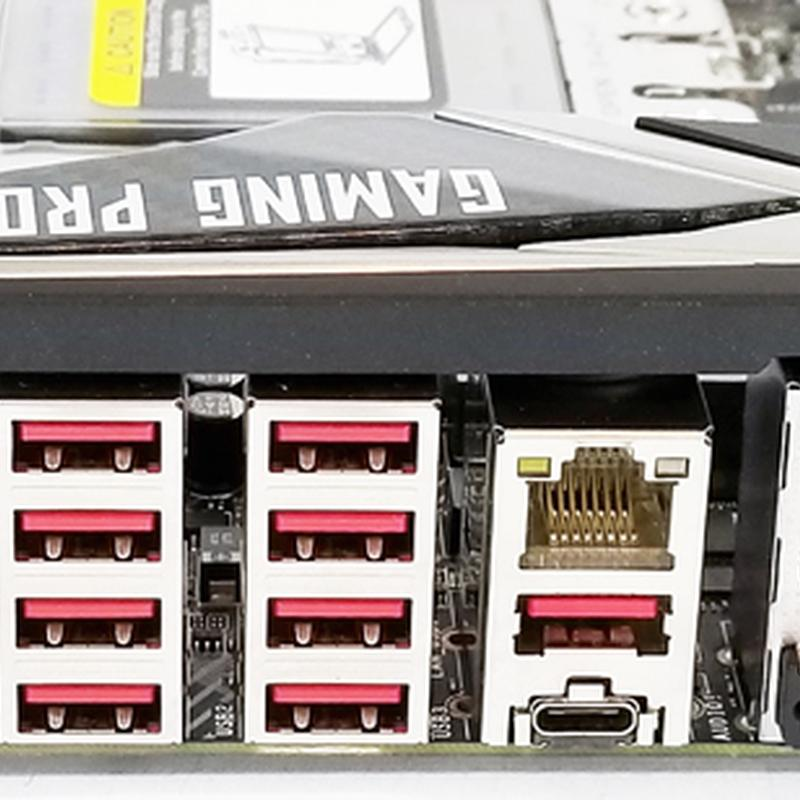ETHERNET: (500, 429, 699, 580)
USB: (507, 577, 690, 670), (0, 488, 181, 570), (253, 402, 429, 486), (259, 586, 425, 667), (0, 585, 175, 660), (0, 410, 172, 485), (250, 672, 422, 746), (0, 672, 167, 744), (253, 503, 422, 574)
USBC: (511, 671, 653, 743)
